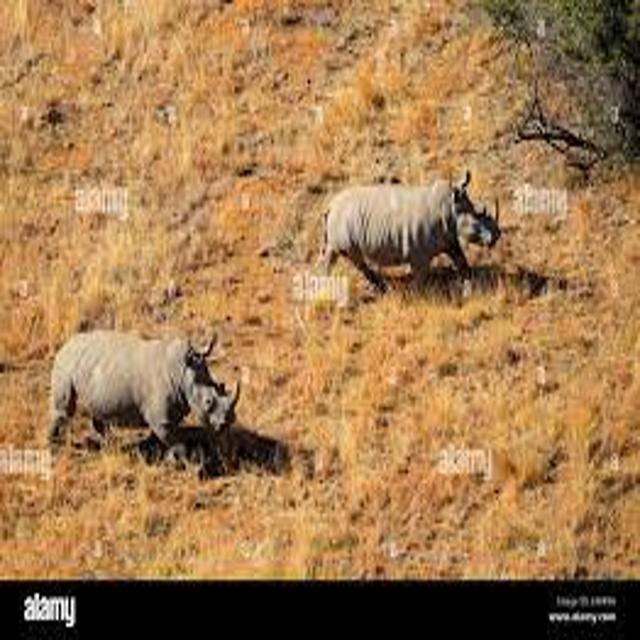Rinoceros: (266, 127, 524, 302), (38, 299, 275, 482)
